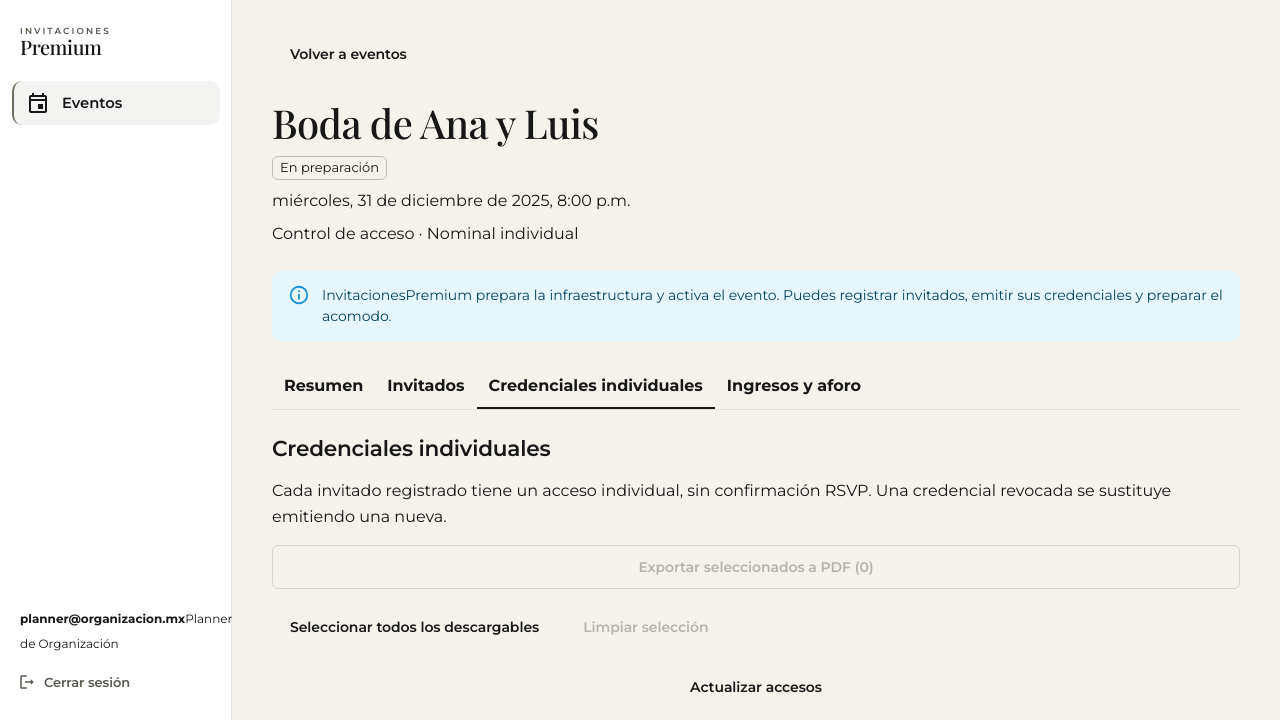
ACCESS_CONTROL Client workspace › selects all nominal printable credentials while excluding revoked, checked-in and retired identities
Click the button "Seleccionar todos los descargables" at (415, 627), box [272, 605, 557, 649]
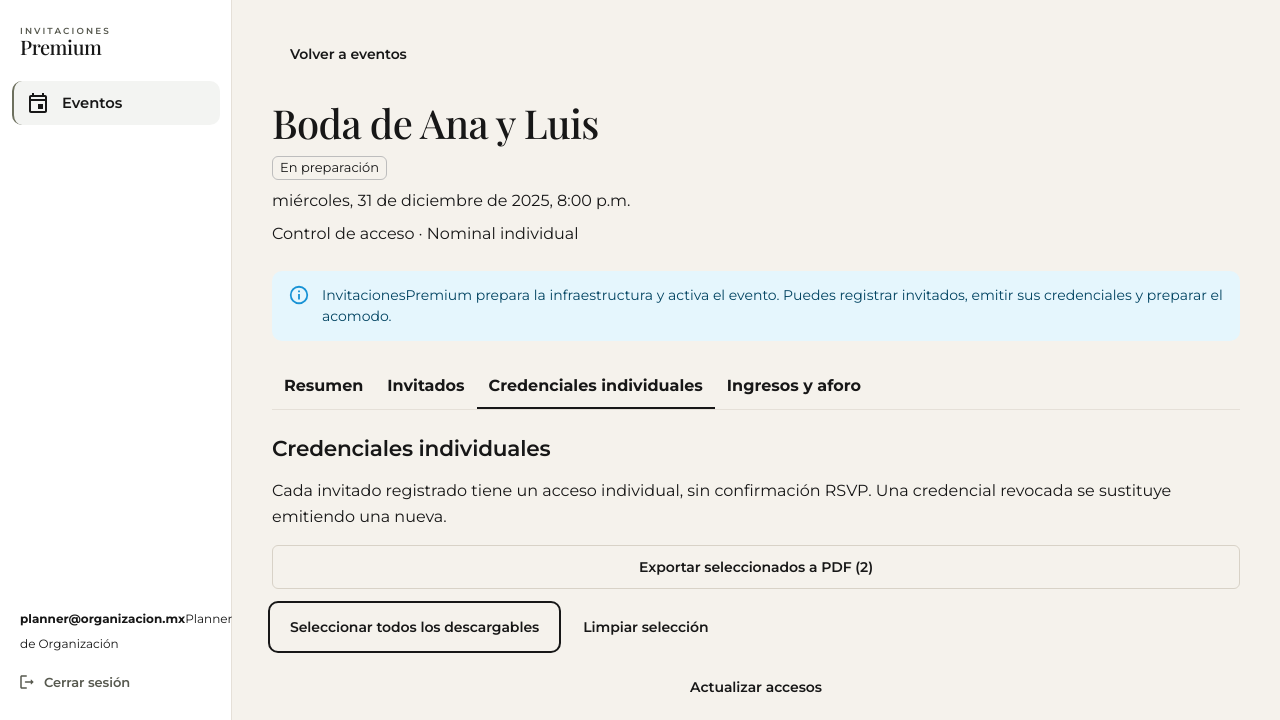
Expected: the button "Exportar seleccionados a PDF (2)" is enabled
Click the button "Exportar seleccionados a PDF (2)" at (756, 567), box [272, 545, 1240, 589]
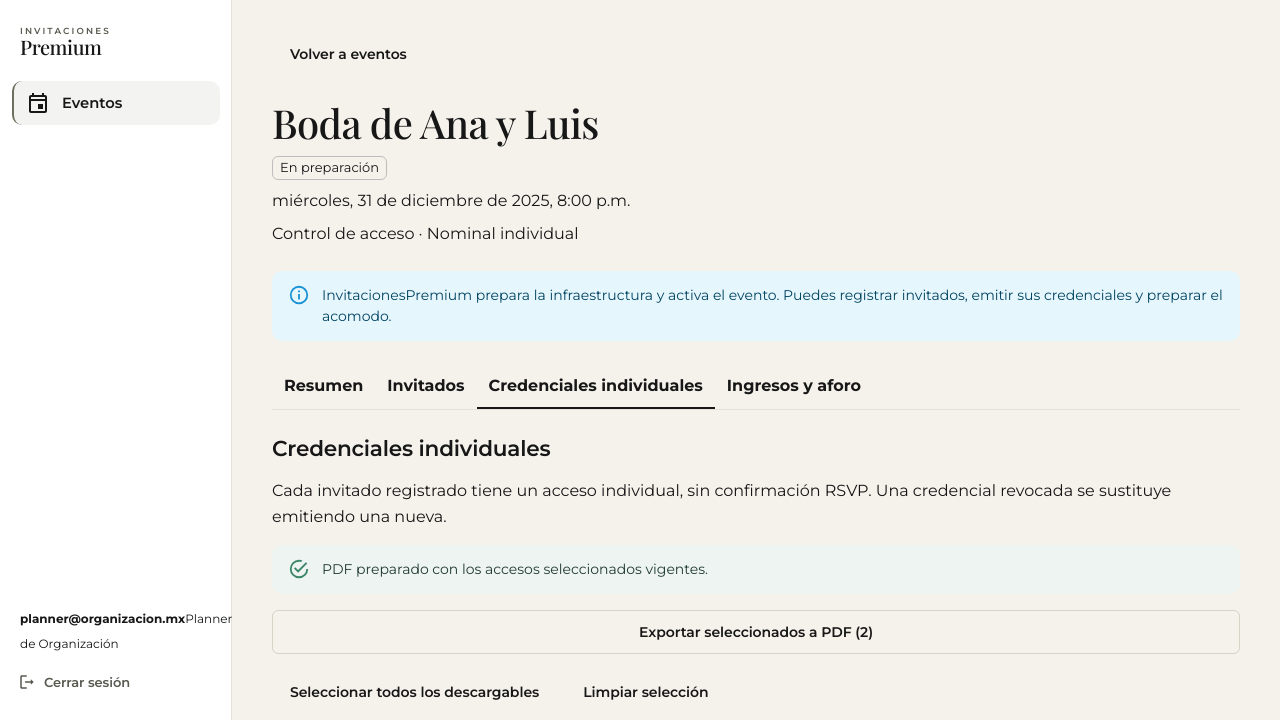
Click the button "Limpiar selección" at (646, 692), box [565, 670, 726, 714]
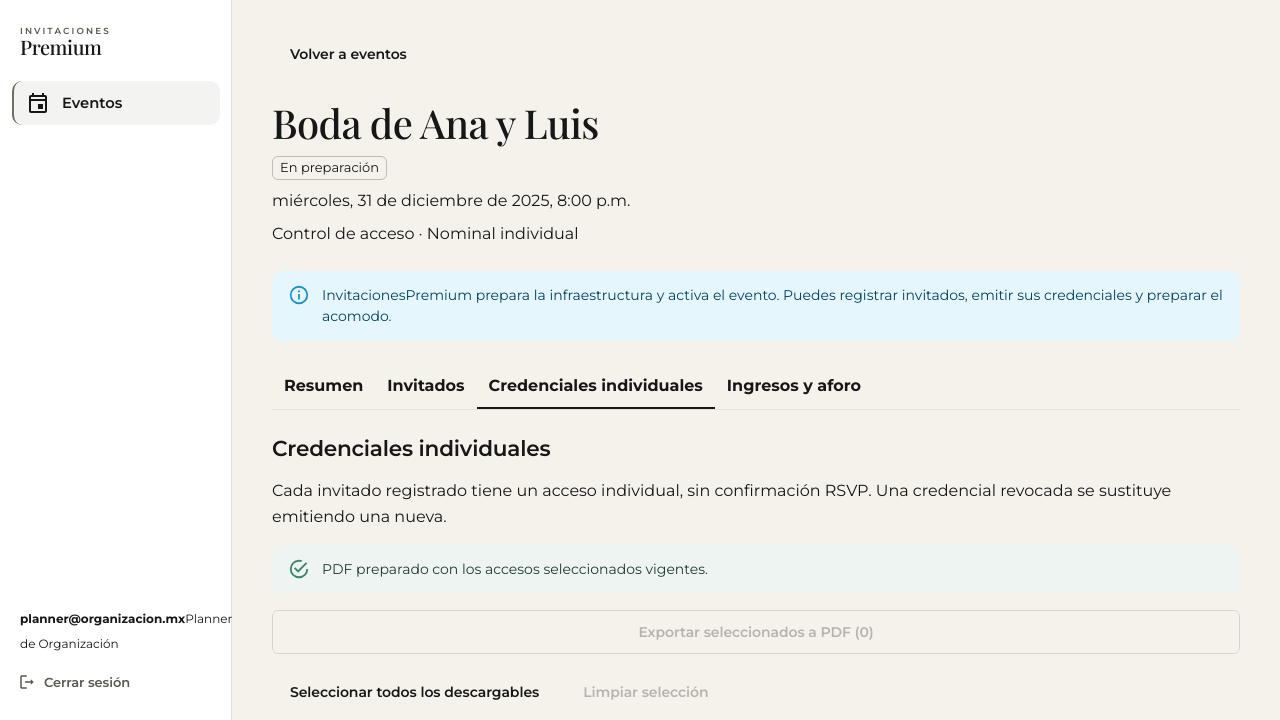
Expected: the button "Exportar seleccionados a PDF (0)" is disabled, [272, 610, 1240, 654]
